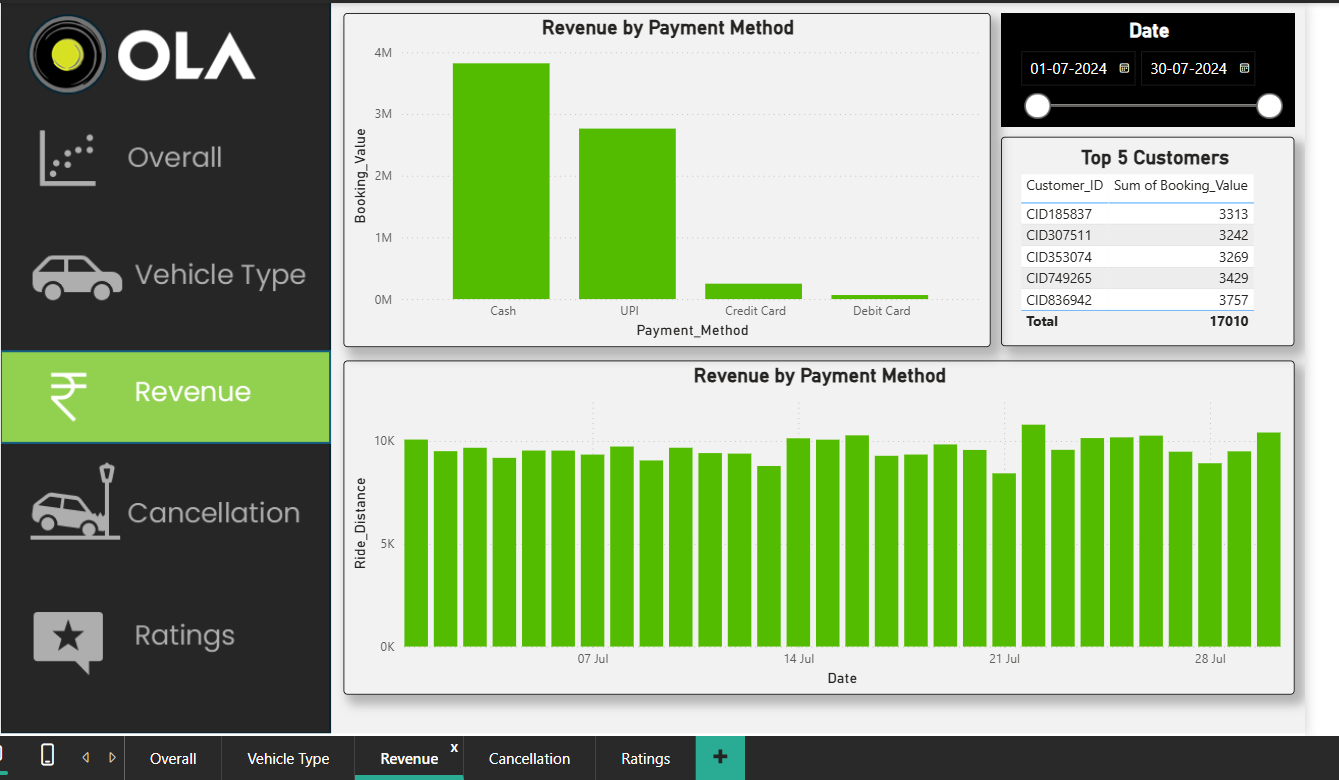

The dashboard page shown, as its layout file describes it:
{"tool":"powerbi","page":{"name":"Revenue","canvas":[1280,720],"ordinal":2},"visuals":[{"type":"actionButton","box":[0,218.4,325.2,95.7],"z":0},{"type":"actionButton","box":[1.2,444.2,325.2,95.7],"z":1000},{"type":"actionButton","box":[1.2,449.1,325.2,81],"z":2000},{"type":"actionButton","box":[1.2,447.9,325.2,81],"z":3000},{"type":"actionButton","box":[2.5,582.8,325.2,81],"z":4000},{"type":"actionButton","box":[2.5,103.1,325.2,83.4],"z":5000},{"type":"columnChart","title":"Revenue by Payment Method","fields":{"Y":["Sum(July.Booking_Value)"],"Category":["July.Payment_Method"]},"box":[336.2,9.8,635.6,327.6],"z":6000},{"type":"columnChart","title":"Revenue by Payment Method","fields":{"Y":["Sum(July.Ride_Distance)"],"Category":["July.Date"]},"box":[336.2,350.9,933.7,327.6],"z":7000},{"type":"slicer","title":"Date","fields":{"Values":["July.Date"]},"box":[981.1,9.6,288.2,111.1],"z":8000},{"type":"tableEx","title":"Top 5 Customers","fields":{"Values":["July.Customer_ID","Sum(July.Booking_Value)"]},"box":[981.1,131.7,288.2,205.8],"z":9000}]}

Visuals, with their boxes on the page's 1280x720 design canvas (x1, y1, x2, y2). These are canvas units, not pixel positions in the 1339x780 screenshot, which may show the page scaled, cropped or inside an application window:
actionButton: <box>0,218,325,314</box>
actionButton: <box>1,444,326,540</box>
actionButton: <box>1,449,326,530</box>
actionButton: <box>1,448,326,529</box>
actionButton: <box>2,583,328,664</box>
actionButton: <box>2,103,328,186</box>
"Revenue by Payment Method" columnChart: <box>336,10,972,337</box>
"Revenue by Payment Method" columnChart: <box>336,351,1270,678</box>
"Date" slicer: <box>981,10,1269,121</box>
"Top 5 Customers" tableEx: <box>981,132,1269,338</box>
